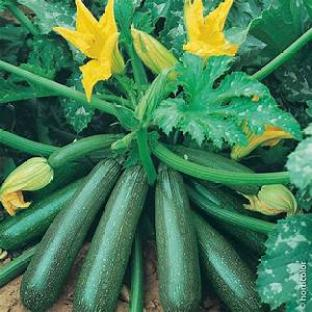Zucchini: (21, 161, 120, 310), (73, 167, 147, 311), (193, 213, 262, 311), (155, 166, 200, 311), (0, 179, 83, 249), (187, 187, 275, 234), (48, 134, 123, 169), (189, 180, 252, 215), (32, 163, 93, 199), (170, 146, 253, 172), (0, 247, 36, 287), (129, 228, 143, 311)
